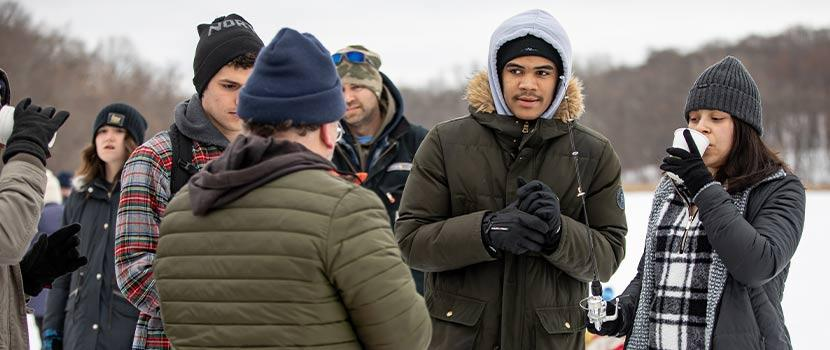coat: (391, 70, 628, 350), (154, 155, 434, 350), (602, 152, 807, 350), (114, 93, 249, 350), (40, 170, 146, 350), (0, 144, 52, 350)
